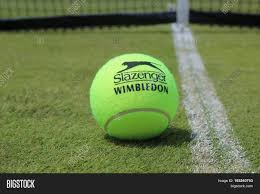tennis_ball: (89, 52, 179, 142)
